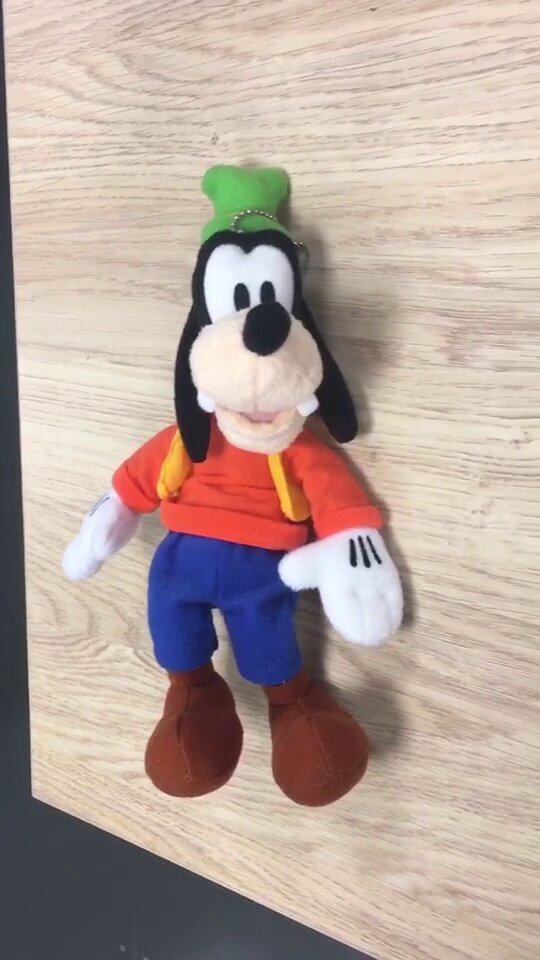goofy: (55, 159, 412, 813)
